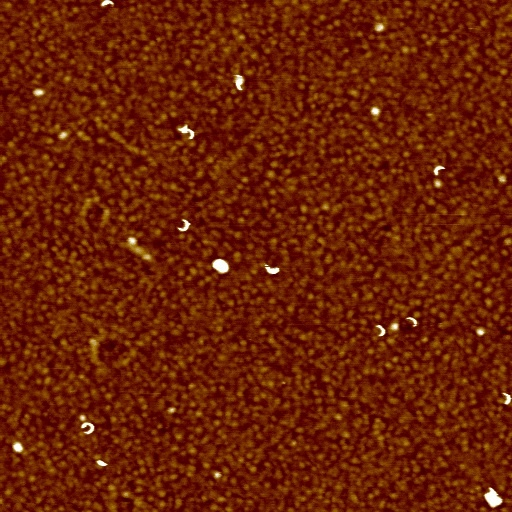-1: (483, 483, 504, 511), (211, 256, 232, 276), (231, 73, 248, 94), (12, 440, 24, 455), (94, 458, 109, 469), (32, 86, 46, 97), (371, 107, 382, 115)
1/4: (430, 162, 448, 178), (96, 1, 117, 7)
2/4: (177, 124, 198, 142), (403, 312, 421, 331), (261, 262, 285, 276), (374, 321, 387, 341), (176, 217, 191, 233), (501, 388, 511, 411)
3/4: (80, 420, 96, 437)
